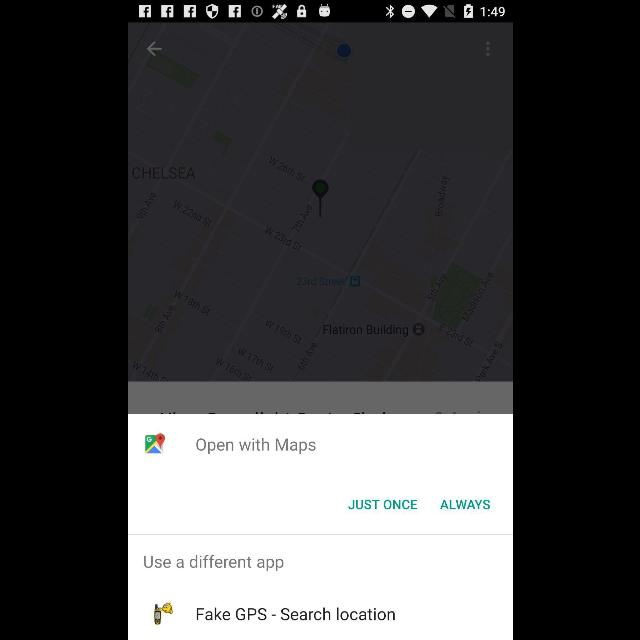icon: (146, 41, 162, 57), (484, 41, 490, 58)
image: (144, 432, 166, 453), (154, 602, 172, 626)
panel: (128, 414, 512, 640)
text: (196, 606, 394, 622), (143, 554, 283, 572), (195, 438, 315, 454), (347, 500, 417, 510), (439, 499, 489, 509)
uppertaskbar: (128, 1, 512, 23)
